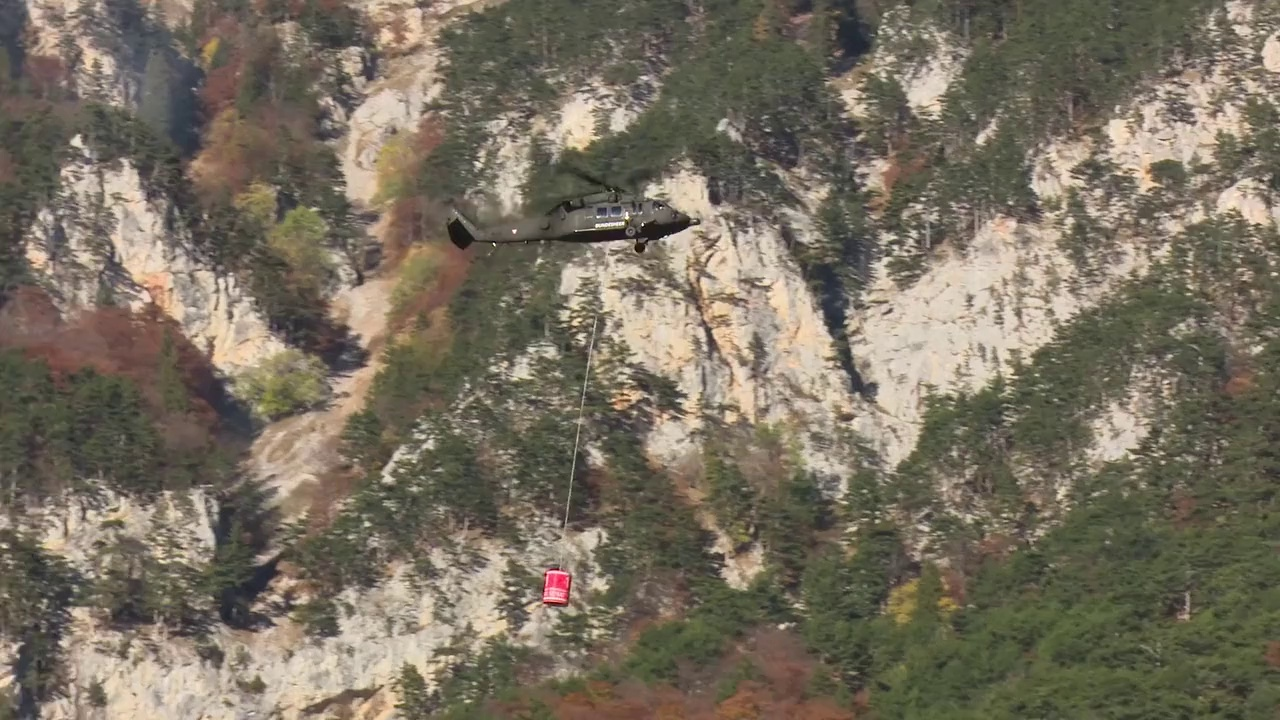heli: (445, 162, 700, 253)
